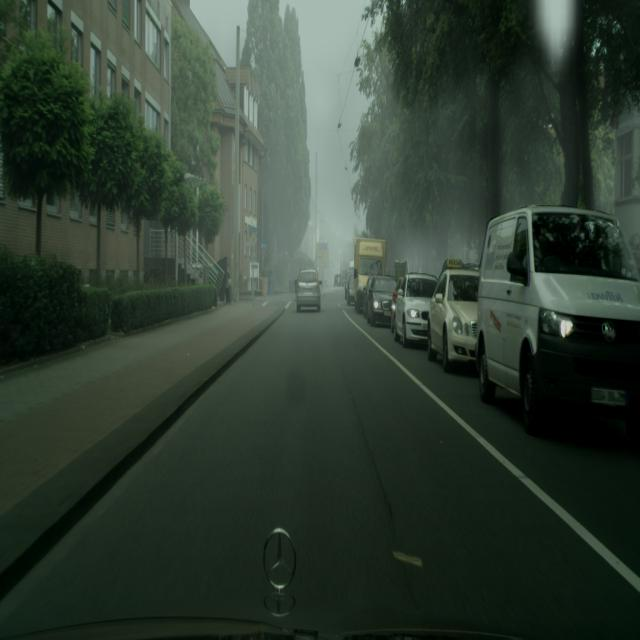train: (354, 238, 387, 314)
truck: (475, 204, 640, 448), (427, 264, 480, 373), (392, 272, 437, 348), (364, 274, 396, 326), (296, 268, 321, 312), (344, 261, 356, 305)
